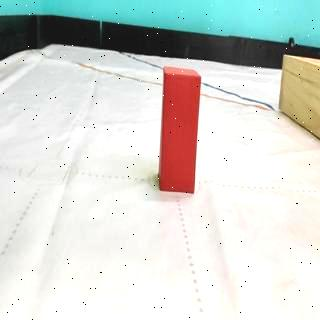redbox: (159, 66, 201, 194)
